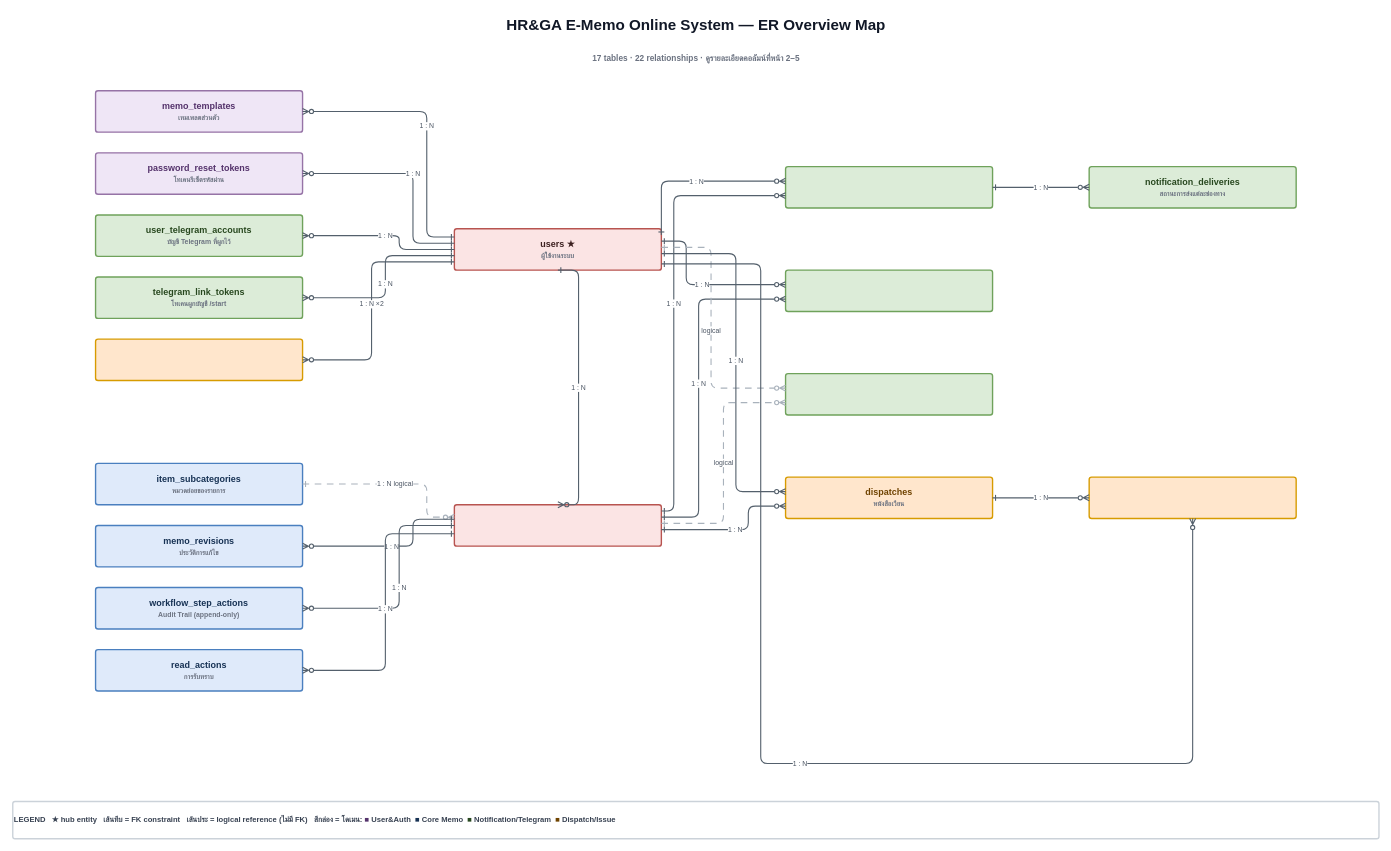
Image size: 1391x851. Some labels were removed from this diagram. The shapes that lost their labels are listed below. From the top down, each one's centre as x and y in pixels, then its label:
[889,187]: notifications แจ้งเตือนในระบบ
[889,290]: telegram_action_tokens โทเคนกดปุ่มอนุมัติ
[199,359]: issue_reports แจ้งปัญหาการใช้งาน
[889,394]: telegram_conversation_states สถานะสนทนา (ชั่วคราว)
[1192,497]: dispatch_recipients ผู้รับหนังสือเวียน
[557,525]: memos ★ บันทึกข้อความ
